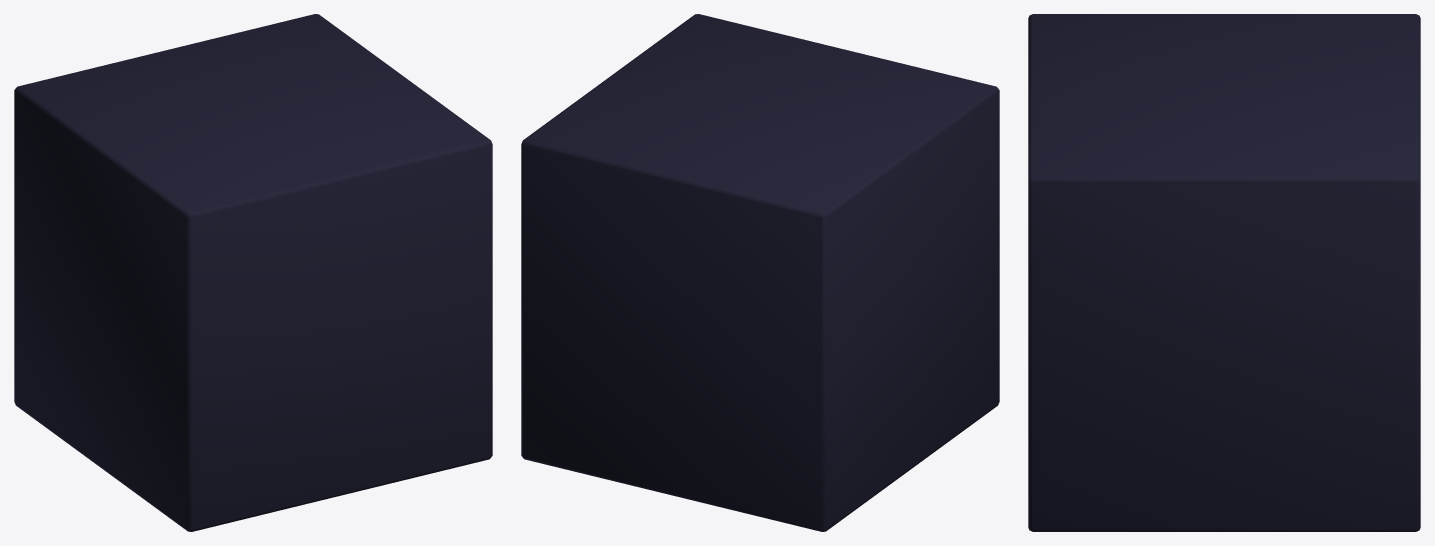
3 views of the same model, side by side, from view 1: azimuth 30°, elevation 25°; view 2: azimuth 150°, elevation 25°; view 3: azimuth 270°, elevation 25° (orthographic). The views are drawn at different scales.
Visible parts, largest first — view 1: Stand_Base_Box001; view 2: Stand_Base_Box001; view 3: Stand_Base_Box001.
Part boxes in pixels (x1,y1,x2,y2): Stand_Base_Box001: (14,14,492,531); Stand_Base_Box001: (521,14,999,531); Stand_Base_Box001: (1028,14,1420,531).
Bounding box in the file's own units: 200 × 200 × 200.
